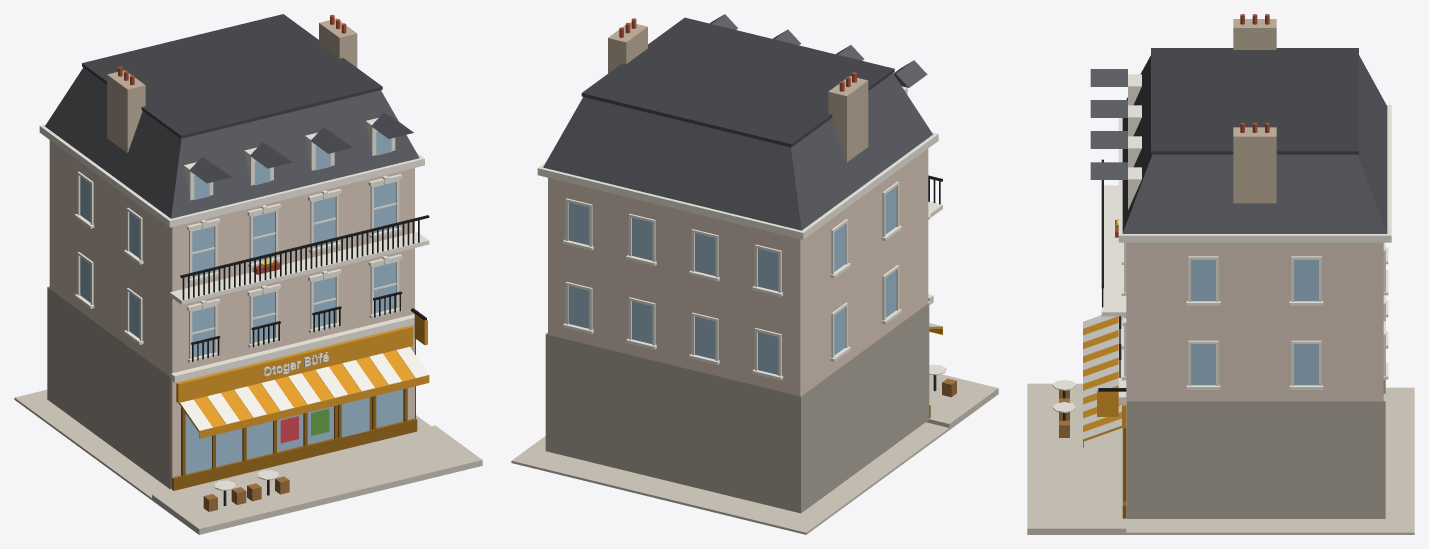
The model's file is Dukkan_otogar_bufe_Hafif.fbx.
3 renders of one model, left to right at view 1: azimuth 30°, elevation 25°; view 2: azimuth 150°, elevation 25°; view 3: azimuth 270°, elevation 25°, orthographic. The views are drawn at different scales.
Parts seen in each view (by area): view 1: Dukkan_otogar_bufe_Hafif; view 2: Dukkan_otogar_bufe_Hafif; view 3: Dukkan_otogar_bufe_Hafif.
Part boxes in pixels (<box>): Dukkan_otogar_bufe_Hafif: <box>14,14,482,534</box>; Dukkan_otogar_bufe_Hafif: <box>511,14,998,534</box>; Dukkan_otogar_bufe_Hafif: <box>1027,14,1414,534</box>.
Bounding box in the file's own units: 11.09 × 14.02 × 12.52.
